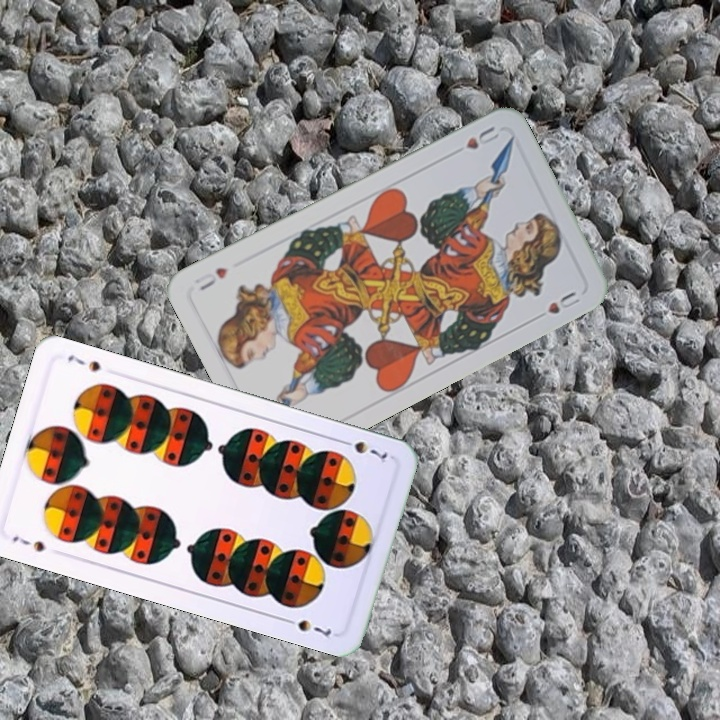HU: (461, 122, 502, 152)
S7: (336, 435, 390, 466), (8, 531, 48, 555)
